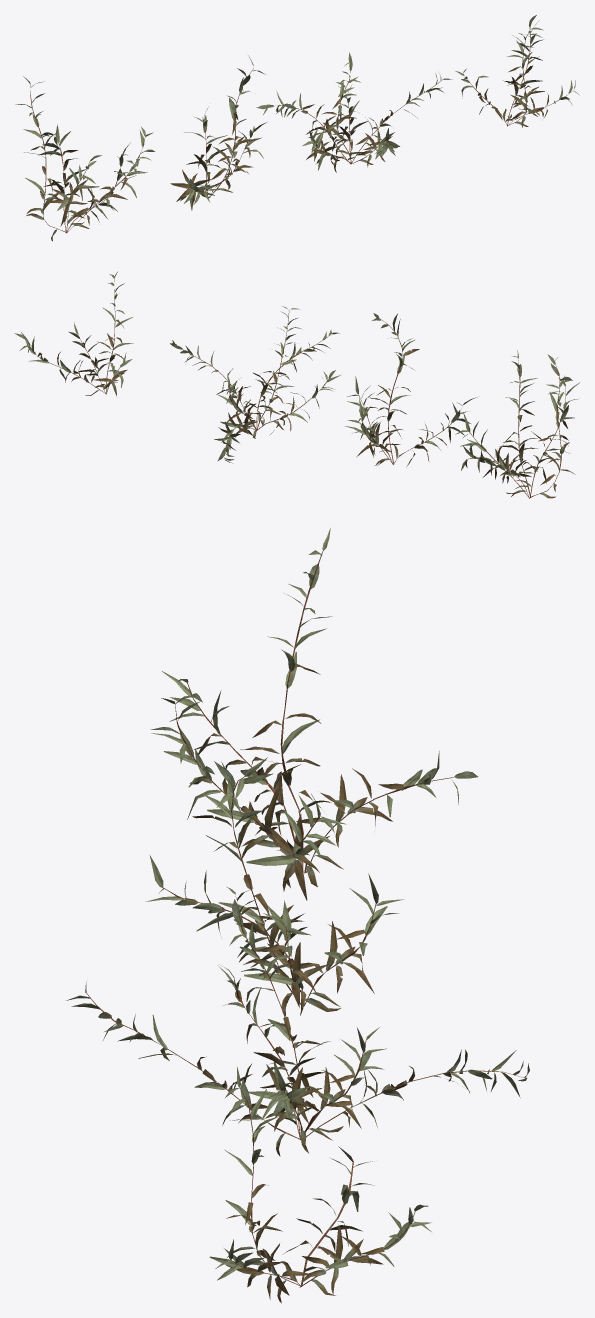
Rendered from shrub_02.glb.
3 views of the same model, one above another, from view 1: azimuth 30°, elevation 25°; view 2: azimuth 150°, elevation 25°; view 3: azimuth 270°, elevation 25° (orthographic). The views are drawn at different scales.
Parts seen in each view (by area): view 1: shrub_02_a, shrub_02_c, shrub_02_b, shrub_02_d; view 2: shrub_02_a, shrub_02_c, shrub_02_b, shrub_02_d; view 3: shrub_02_a, shrub_02_c, shrub_02_b, shrub_02_d.
Part boxes in pixels (x1,y1,x2,y2): shrub_02_a: (15, 76, 155, 241); shrub_02_c: (256, 52, 452, 172); shrub_02_b: (170, 55, 266, 210); shrub_02_d: (455, 15, 579, 127); shrub_02_a: (455, 350, 579, 498); shrub_02_c: (170, 306, 340, 463); shrub_02_b: (345, 313, 477, 467); shrub_02_d: (14, 272, 133, 396); shrub_02_a: (150, 528, 478, 900); shrub_02_c: (66, 887, 529, 1156); shrub_02_b: (145, 757, 404, 1016); shrub_02_d: (209, 1066, 431, 1303).
Bounding box in the file's own units: 6.03 × 1.69 × 2.28.
Materials: 1 (1 with a texture image).
